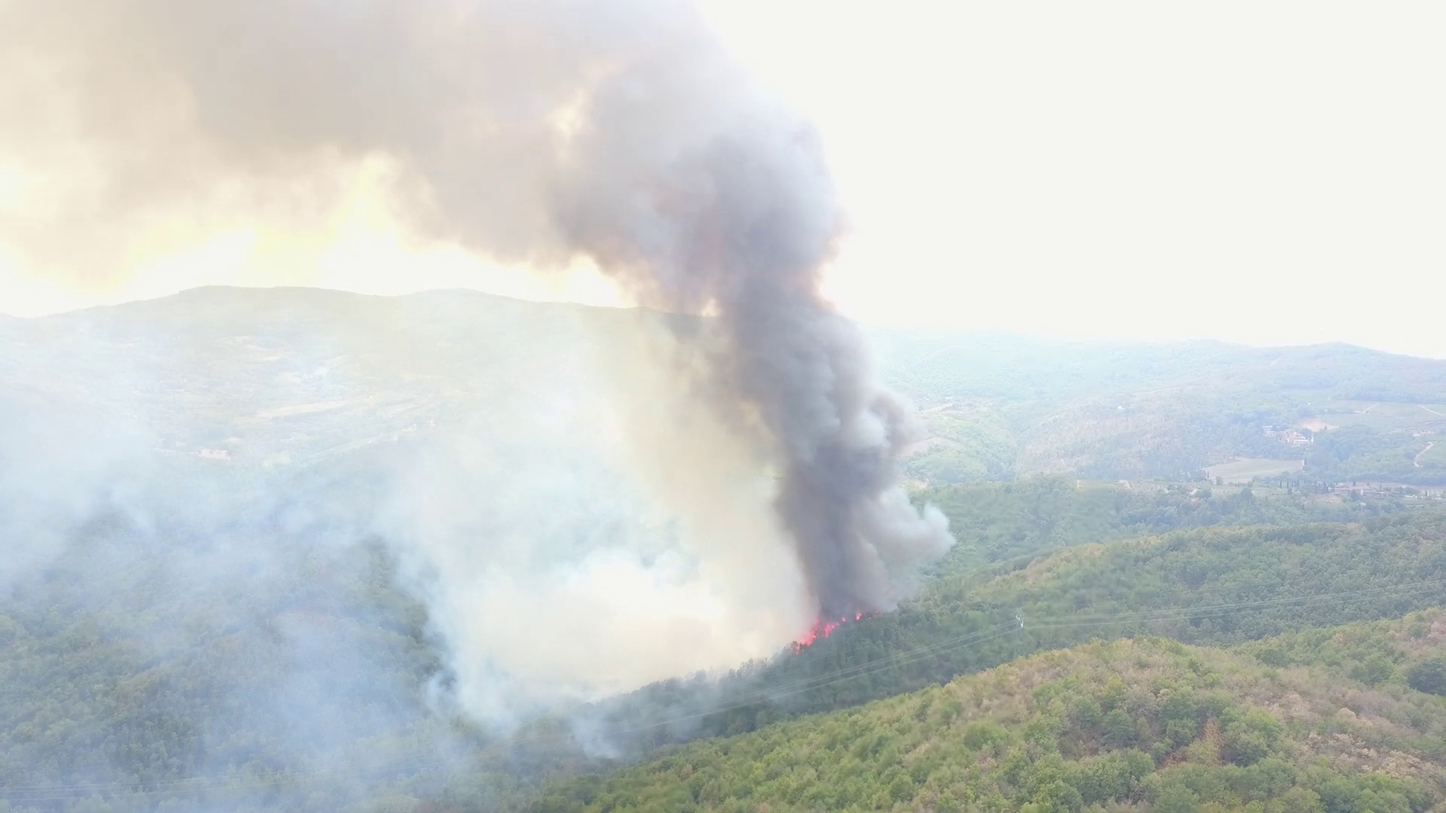forest_fire: (795, 615, 849, 648), (853, 613, 862, 620)
